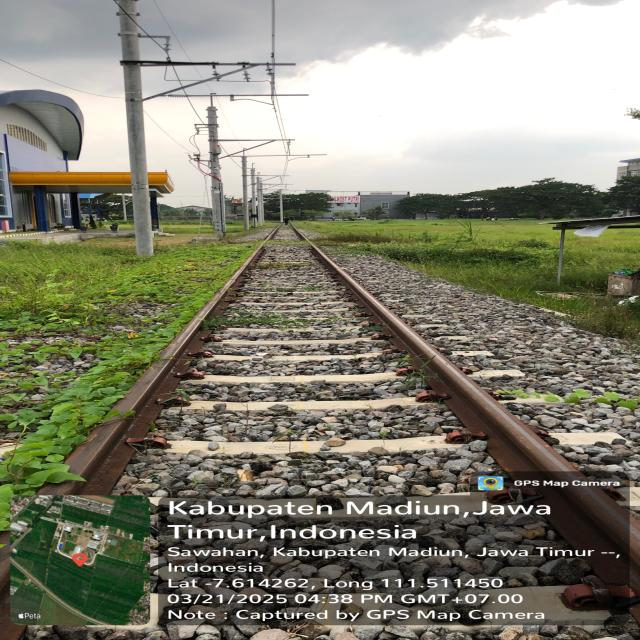rail-detection: (311, 246, 640, 593), (67, 248, 261, 490)
